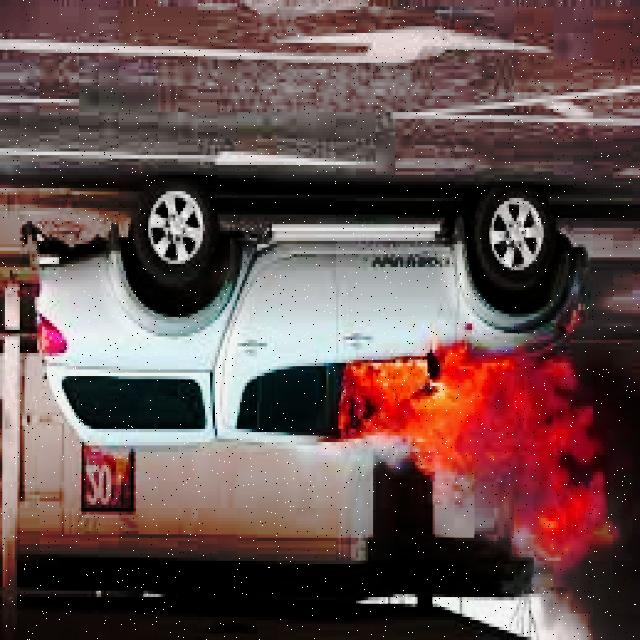api: (335, 344, 619, 555)
